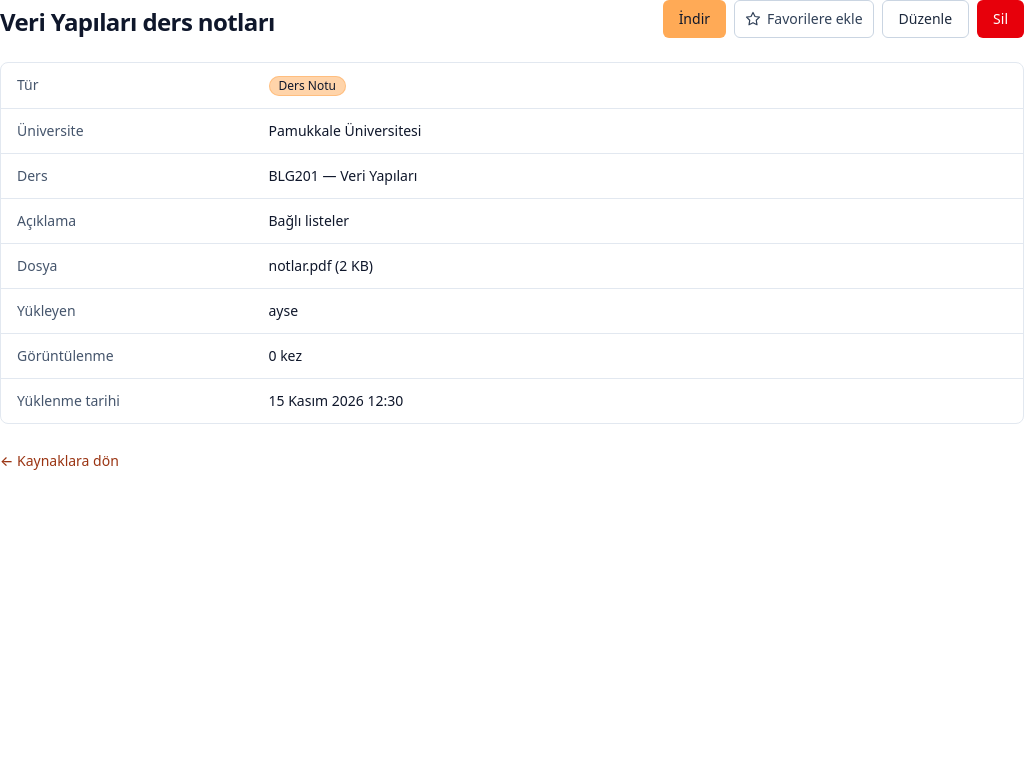
Scenario: ResourceDetailPage role-based actions › deletes after confirmation and returns to the list with a notice
Click the button "Sil". click: (1001, 19)
box: [977,0,1023,38]
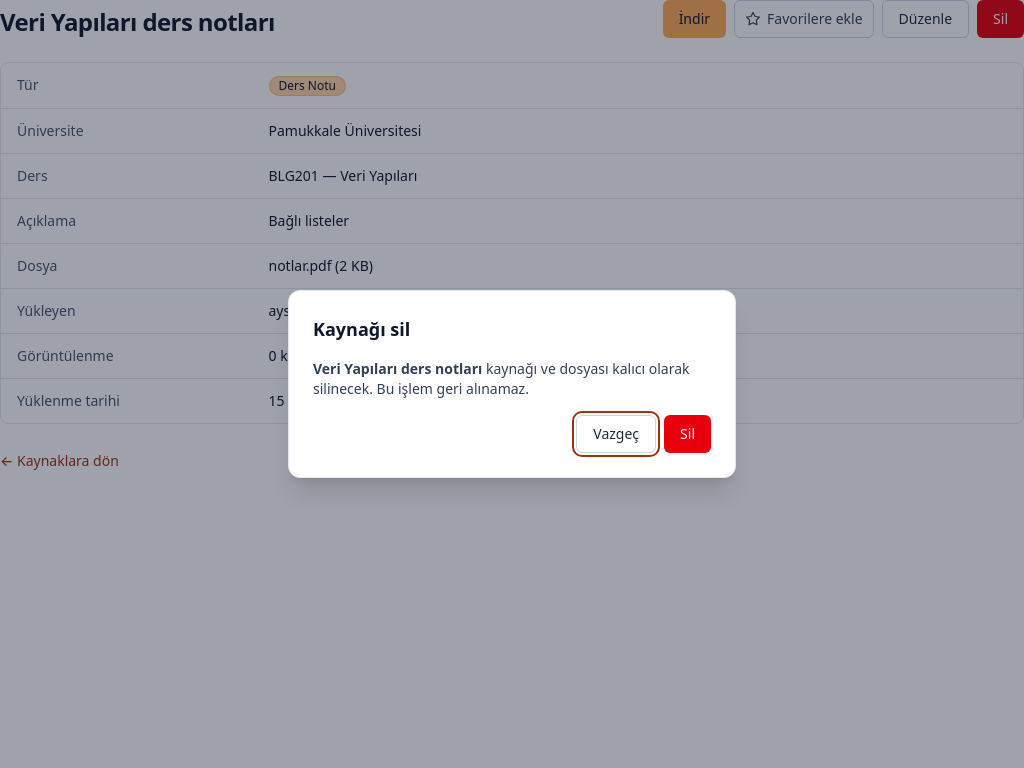
Click the button "Vazgeç". click: (616, 434)
box: [576,415,656,453]
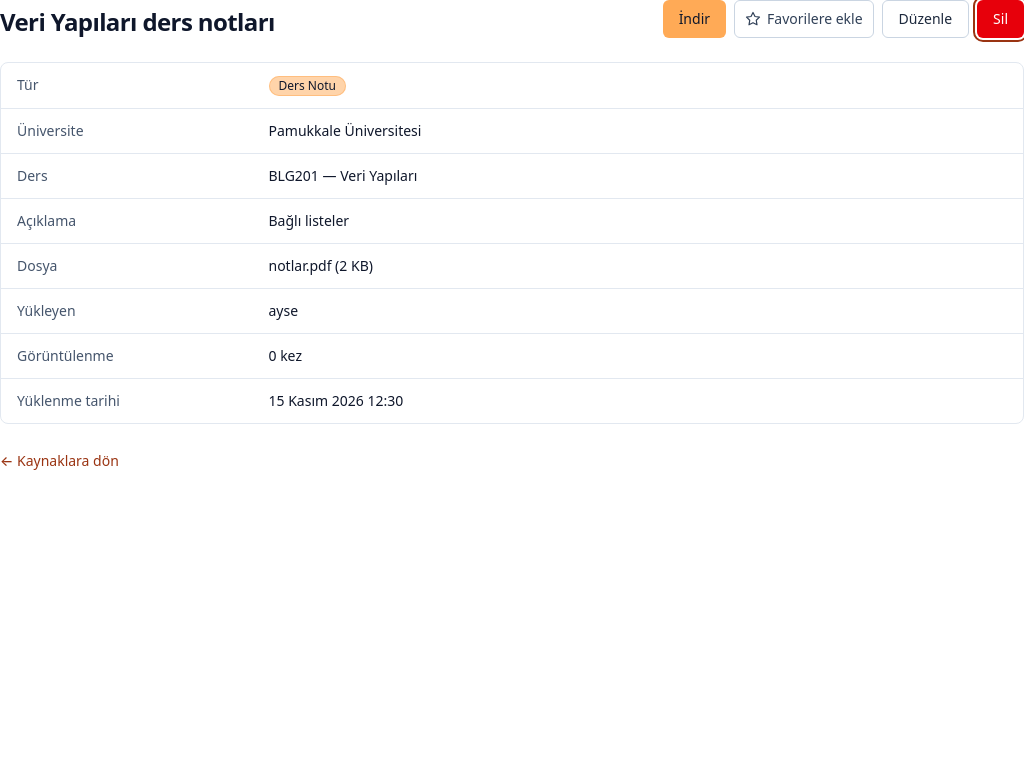
Click the button "Sil". click: (1001, 19)
box: [977,0,1023,38]
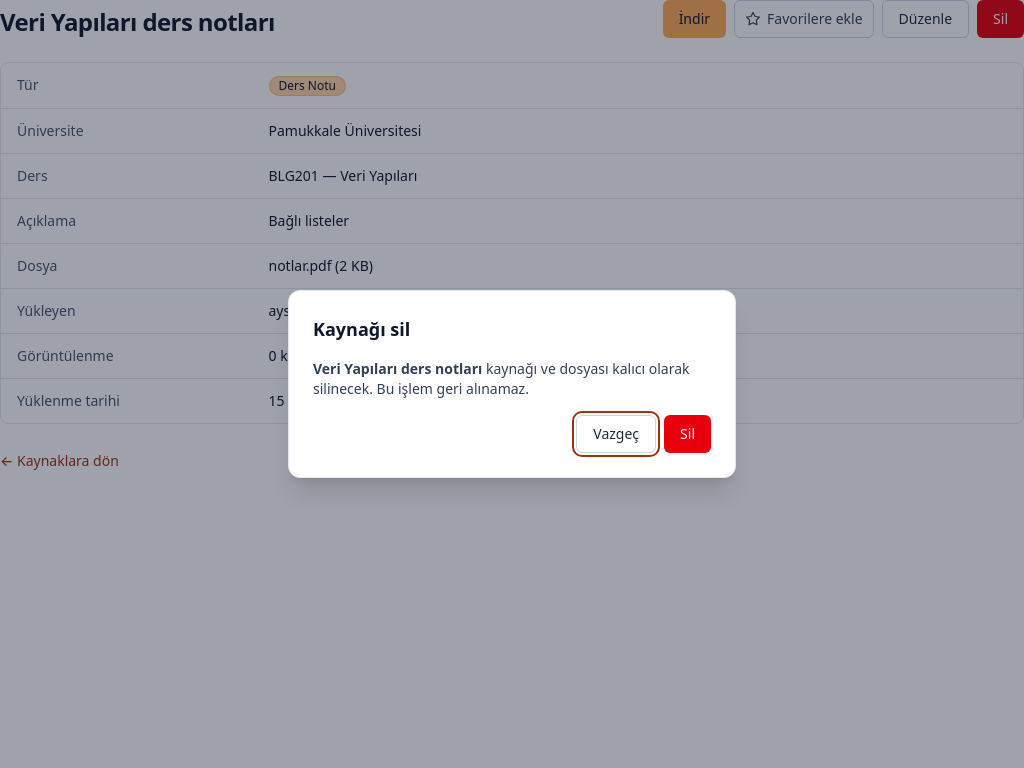
Click the button "Sil" below "Kaynağı sil". click: (688, 434)
box: [664,415,711,453]
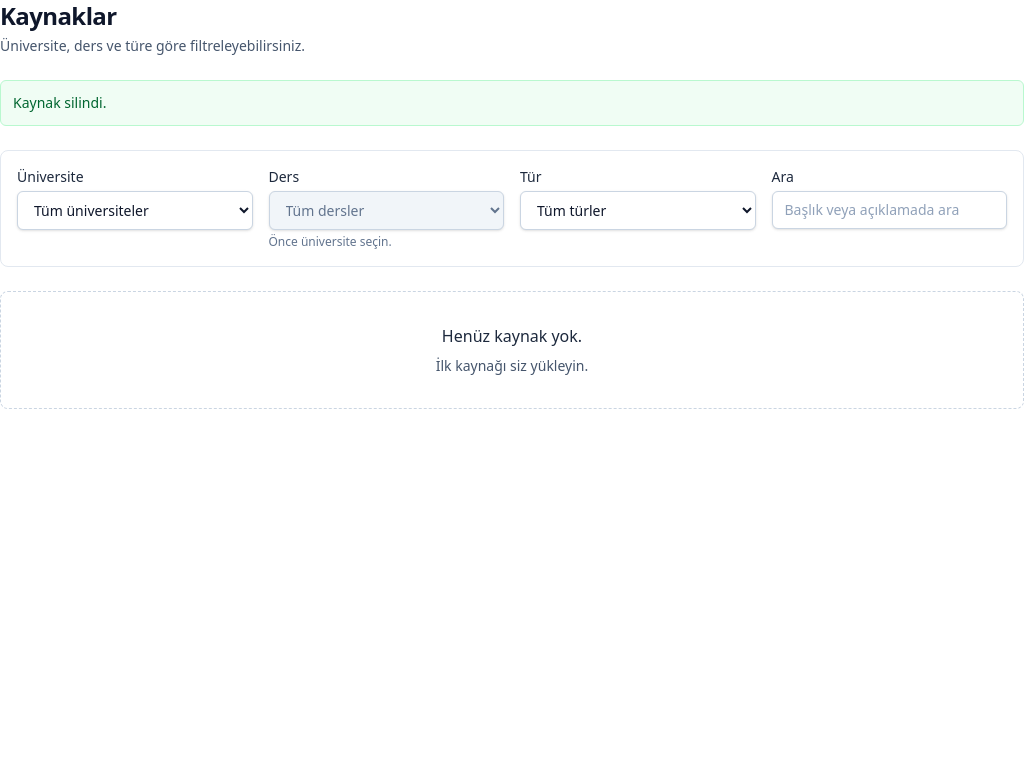
expect the text "Kaynak silindi." is shown: met, box [0,80,1023,126]
